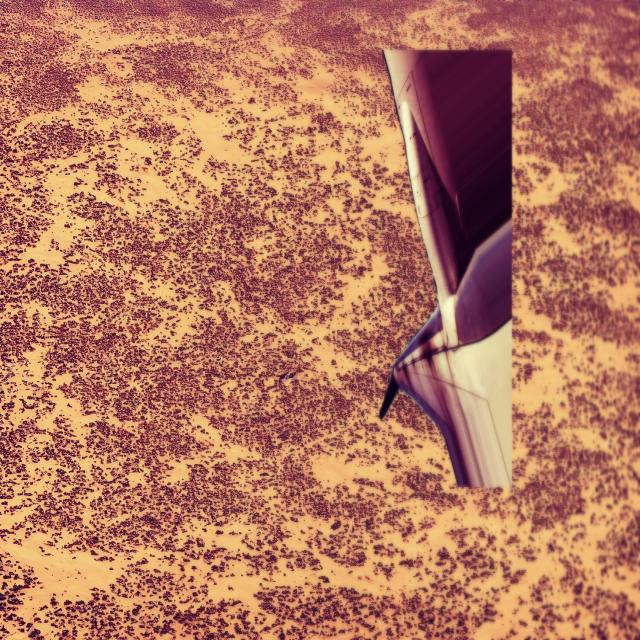airplane: (378, 46, 513, 490)
